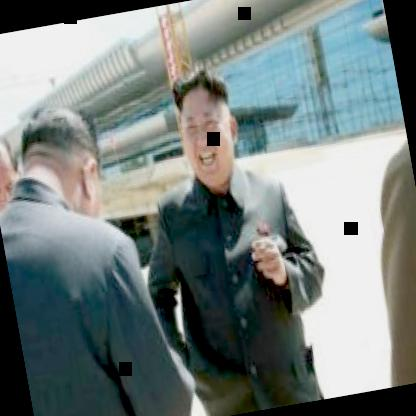head: (0, 90, 119, 234), (164, 59, 250, 197), (0, 122, 23, 220)
